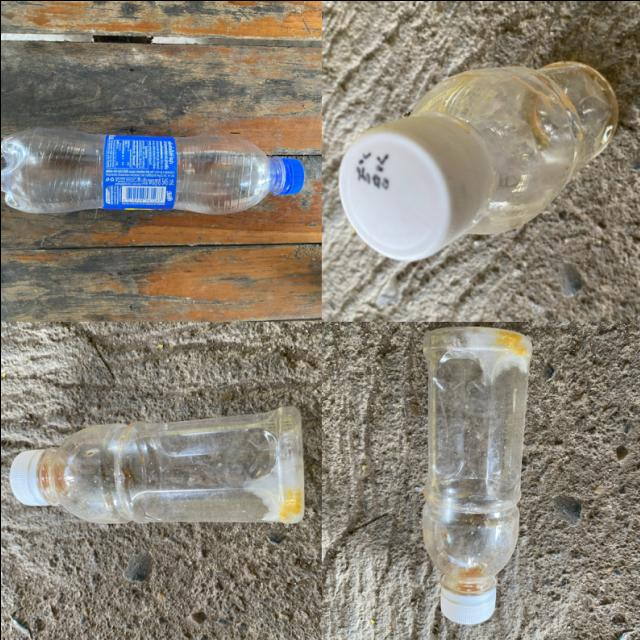plastik: (338, 61, 617, 259), (10, 406, 303, 522), (422, 326, 531, 623), (0, 127, 303, 214)
